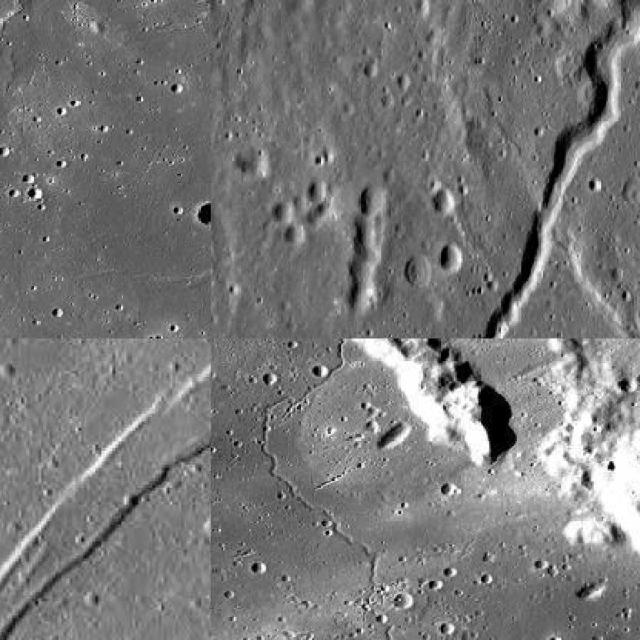rille: (211, 0, 638, 337), (0, 338, 209, 638), (258, 338, 451, 638), (133, 0, 210, 337)
